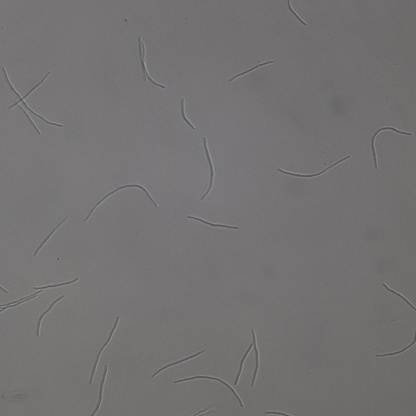Sensitive: (3, 65, 64, 136), (85, 183, 160, 220), (174, 375, 242, 406), (370, 125, 412, 170), (278, 153, 350, 178), (90, 317, 118, 381), (233, 330, 260, 387), (151, 349, 205, 377), (136, 37, 165, 88), (35, 218, 69, 254), (36, 295, 65, 335), (200, 137, 217, 200), (376, 332, 416, 358), (88, 365, 107, 416), (382, 285, 416, 312), (228, 60, 271, 81), (187, 215, 239, 232), (1, 290, 41, 311), (178, 98, 196, 130), (35, 277, 79, 290), (285, 1, 307, 25)
